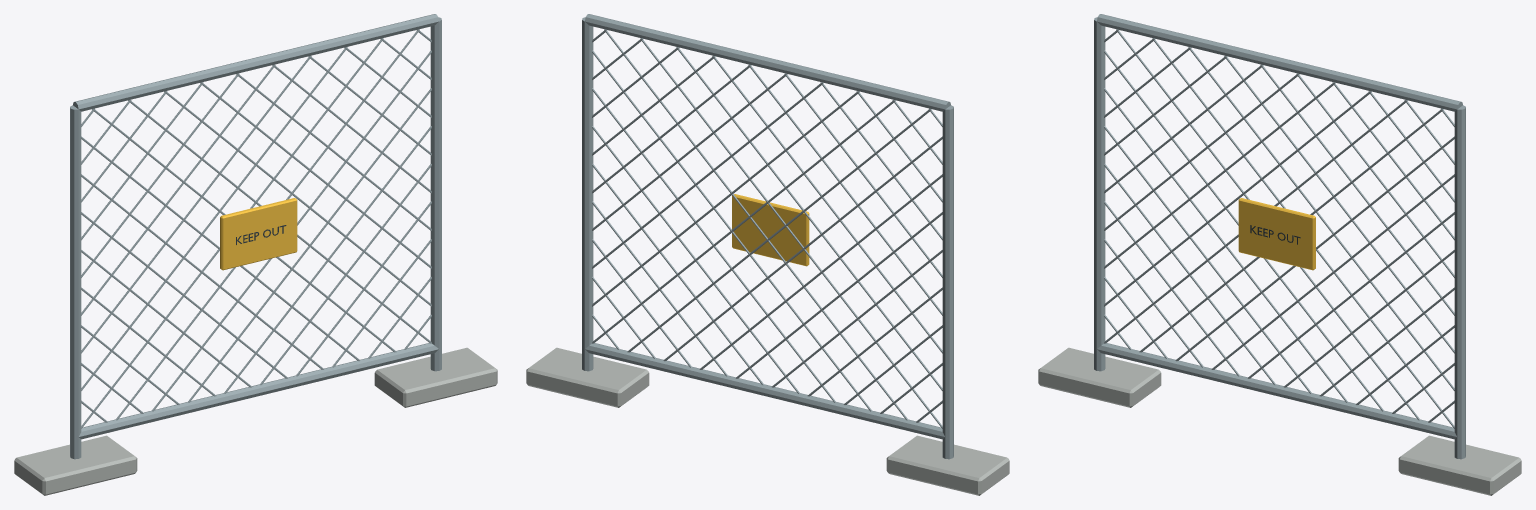
The model's file is Fence_Portable.glb.
The picture shows the model from 3 angles, left to right: view 1: azimuth 30°, elevation 25°; view 2: azimuth 150°, elevation 25°; view 3: azimuth 330°, elevation 25°; orthographic projection.
Parts seen in each view (by area): view 1: Fence_Portable; view 2: Fence_Portable; view 3: Fence_Portable.
Boxes of the visible parts, x1=… form: Fence_Portable: x1=14, y1=14, x2=497, y2=495; Fence_Portable: x1=526, y1=14, x2=1009, y2=495; Fence_Portable: x1=1038, y1=14, x2=1521, y2=495.
Bounding box in the file's own units: 2.4 × 1.88 × 0.28.
